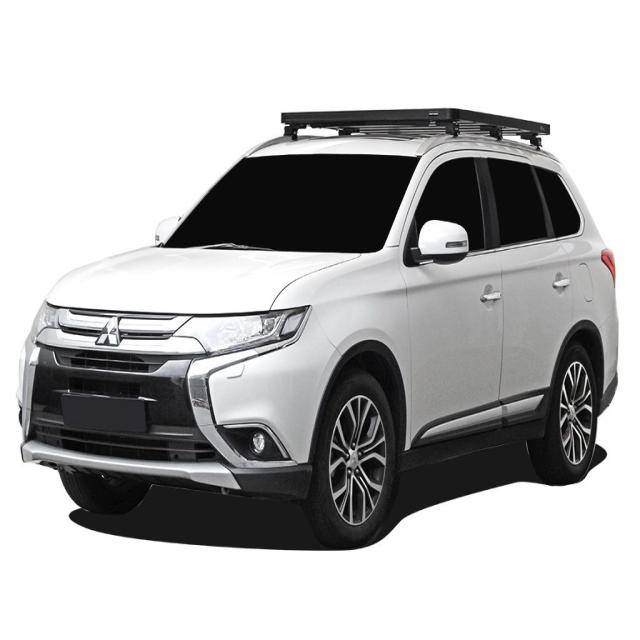light_vehicle: (17, 110, 620, 548)
